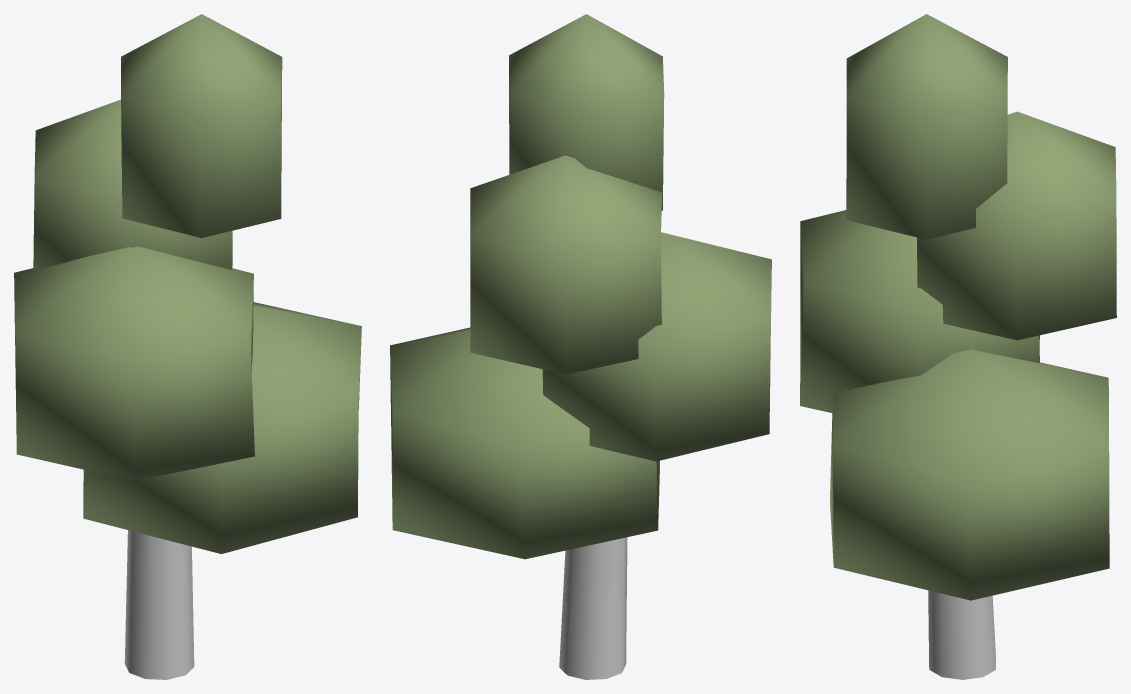
File: pine_v1_mid.gltf
The picture shows the model from 3 angles, left to right: view 1: azimuth 30°, elevation 25°; view 2: azimuth 150°, elevation 25°; view 3: azimuth 270°, elevation 25°; orthographic projection. The views are drawn at different scales.
Parts seen in each view (by area): view 1: foliage, bark; view 2: foliage, bark; view 3: foliage, bark.
Boxes of the visible parts, x1,y1,x2,y2 form: foliage: [14, 14, 361, 553]; bark: [124, 530, 194, 679]; foliage: [390, 14, 771, 559]; bark: [559, 537, 627, 679]; foliage: [800, 14, 1116, 600]; bark: [928, 590, 995, 679].
Bounding box in the file's own units: 2.7 × 4.57 × 1.98.
